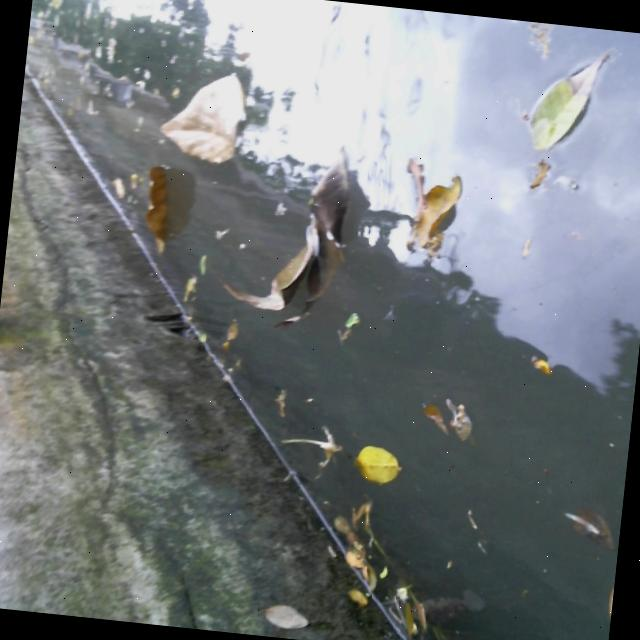Big-leaf: (219, 134, 365, 339), (376, 149, 488, 275), (152, 59, 259, 168), (128, 155, 182, 256)
Small-leaf: (521, 31, 619, 152), (336, 438, 422, 496), (550, 496, 622, 555), (410, 395, 490, 443), (388, 582, 441, 640), (324, 500, 369, 549), (190, 236, 224, 294), (265, 383, 300, 436), (341, 548, 385, 587), (212, 310, 254, 350), (166, 273, 206, 314), (536, 342, 566, 380), (104, 171, 141, 200), (530, 152, 553, 195)
